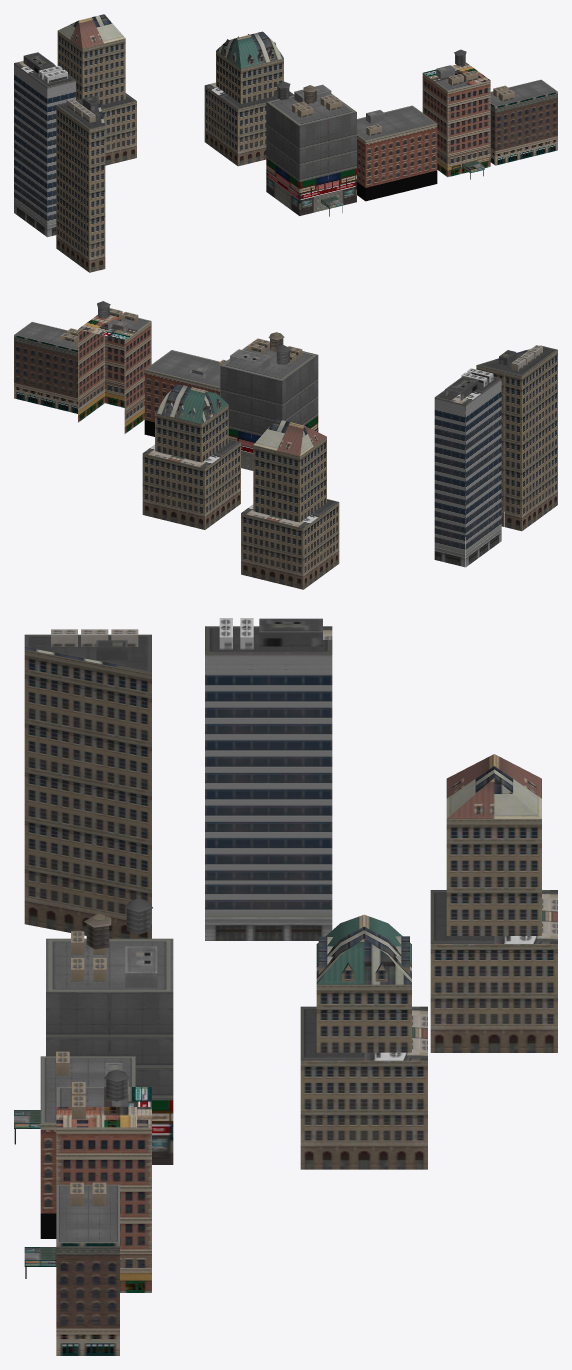
Rendered from Buildings.fbx.
3 renders of one model, top to bottom at view 1: azimuth 30°, elevation 25°; view 2: azimuth 150°, elevation 25°; view 3: azimuth 270°, elevation 25°, orthographic. The views are drawn at different scales.
Visible parts, largest first — view 1: Build_04, Build_07, Build_05, Build_08, Build_06, Build_02, Build_01, Build_03; view 2: Build_06, Build_08, Build_05, Build_07, Build_04, Build_01, Build_03, Build_02; view 3: Build_08, Build_07, Build_06, Build_05, Build_04, Build_01, Build_03, Build_02.
Boxes of the visible parts, x1,y1,x2,y2 form: Build_04: [266, 81, 356, 216]; Build_07: [56, 95, 105, 272]; Build_05: [204, 31, 293, 166]; Build_08: [14, 52, 75, 237]; Build_06: [57, 14, 136, 165]; Build_02: [357, 105, 437, 201]; Build_01: [422, 49, 490, 179]; Build_03: [490, 79, 557, 165]; Build_06: [241, 419, 339, 589]; Build_08: [434, 368, 501, 567]; Build_05: [142, 384, 240, 529]; Build_07: [476, 345, 557, 531]; Build_04: [220, 332, 318, 470]; Build_01: [78, 301, 151, 433]; Build_03: [14, 322, 77, 413]; Build_02: [144, 350, 226, 436]; Build_08: [205, 618, 332, 940]; Build_07: [24, 629, 151, 938]; Build_06: [430, 754, 557, 1052]; Build_05: [300, 914, 427, 1169]; Build_04: [14, 898, 173, 1164]; Build_01: [24, 1070, 151, 1292]; Build_03: [56, 1182, 119, 1355]; Build_02: [40, 1051, 135, 1238].
Size of the model in its own units: 995 by 314 by 512.
